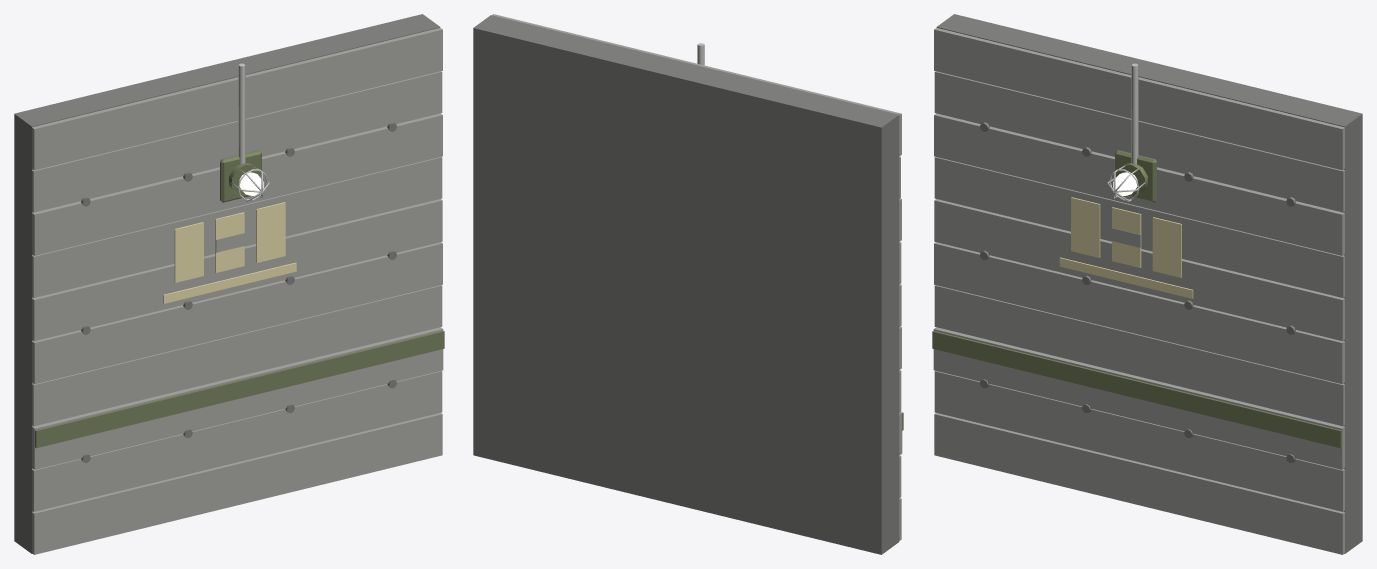
The model's file is wall_bk_lamp.glb.
3 renders of one model, left to right at view 1: azimuth 30°, elevation 25°; view 2: azimuth 150°, elevation 25°; view 3: azimuth 330°, elevation 25°, orthographic.
Visible parts, largest first — view 1: wall_bk_lamp; view 2: wall_bk_lamp; view 3: wall_bk_lamp.
Boxes of the visible parts, <box> form: wall_bk_lamp: <box>14,14,444,554</box>; wall_bk_lamp: <box>473,14,903,554</box>; wall_bk_lamp: <box>932,14,1362,554</box>.
Bounding box in the file's own units: 4 × 4.15 × 0.7461.
